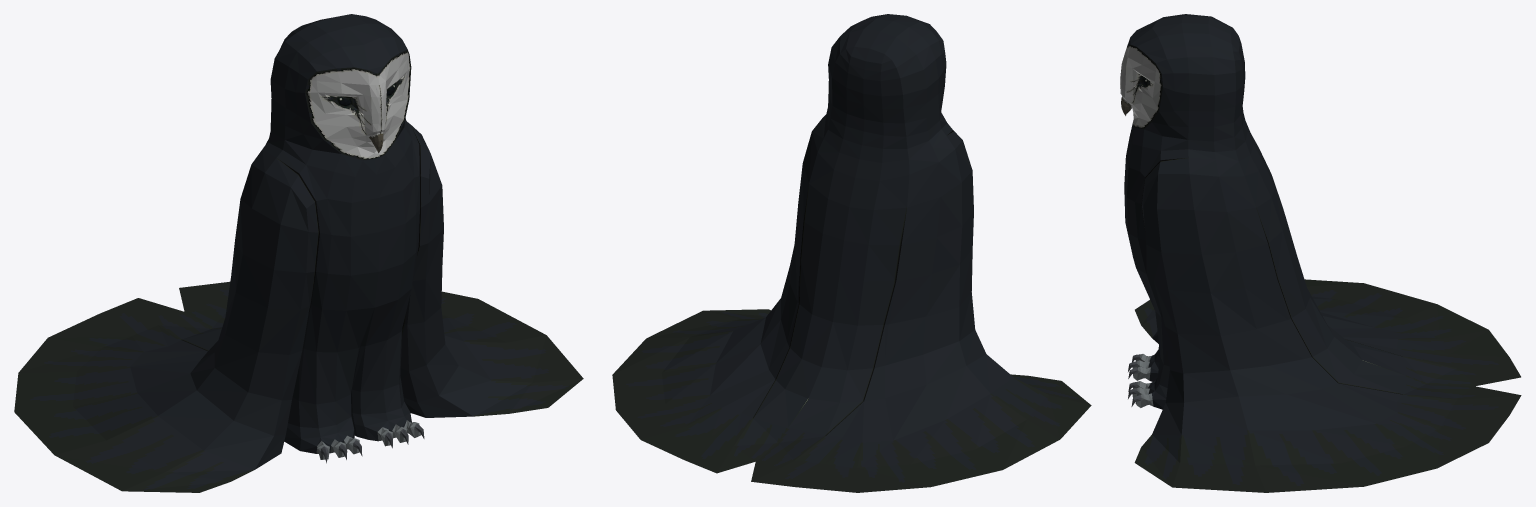
Rendered from wan_shi_tong.glb.
3 views of the same model, side by side, from view 1: azimuth 30°, elevation 25°; view 2: azimuth 150°, elevation 25°; view 3: azimuth 270°, elevation 25° (orthographic). The views are drawn at different scales.
Parts seen in each view (by area): view 1: Wan Shi Tong.obj; view 2: Wan Shi Tong.obj; view 3: Wan Shi Tong.obj.
Boxes of the visible parts, x1=… form: Wan Shi Tong.obj: x1=14, y1=14, x2=583, y2=492; Wan Shi Tong.obj: x1=612, y1=14, x2=1091, y2=492; Wan Shi Tong.obj: x1=1120, y1=14, x2=1521, y2=492.
Size of the model in its own units: 5.72 by 4.49 by 4.49.
1 material, 1 textured.
